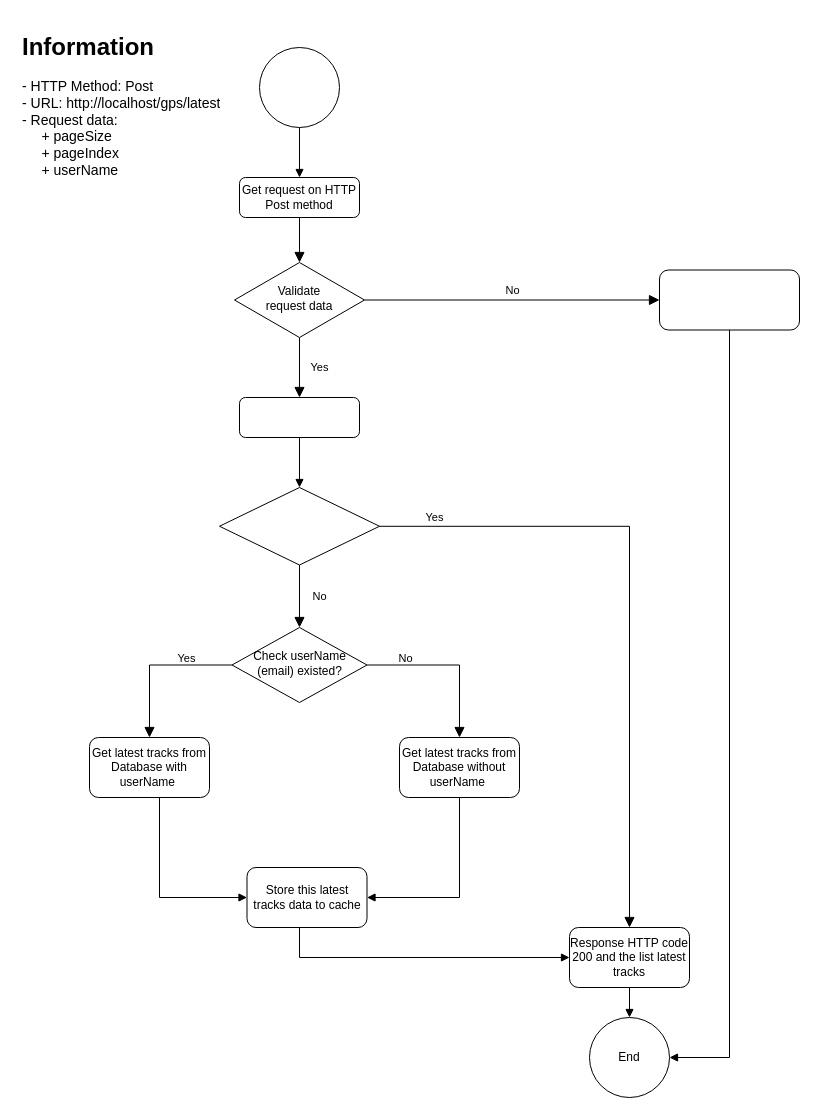
Some shapes in this 817 by 1115 pixel diagram are drawn without their labels. Each missing label, with the centre of its shape:
"Caching Processing" belongs at (299,417).
"Has cached data for this request?" belongs at (299,525).
"Response HTTP code 400 and Error massage to client" belongs at (729,299).
"Start" belongs at (299,87).
